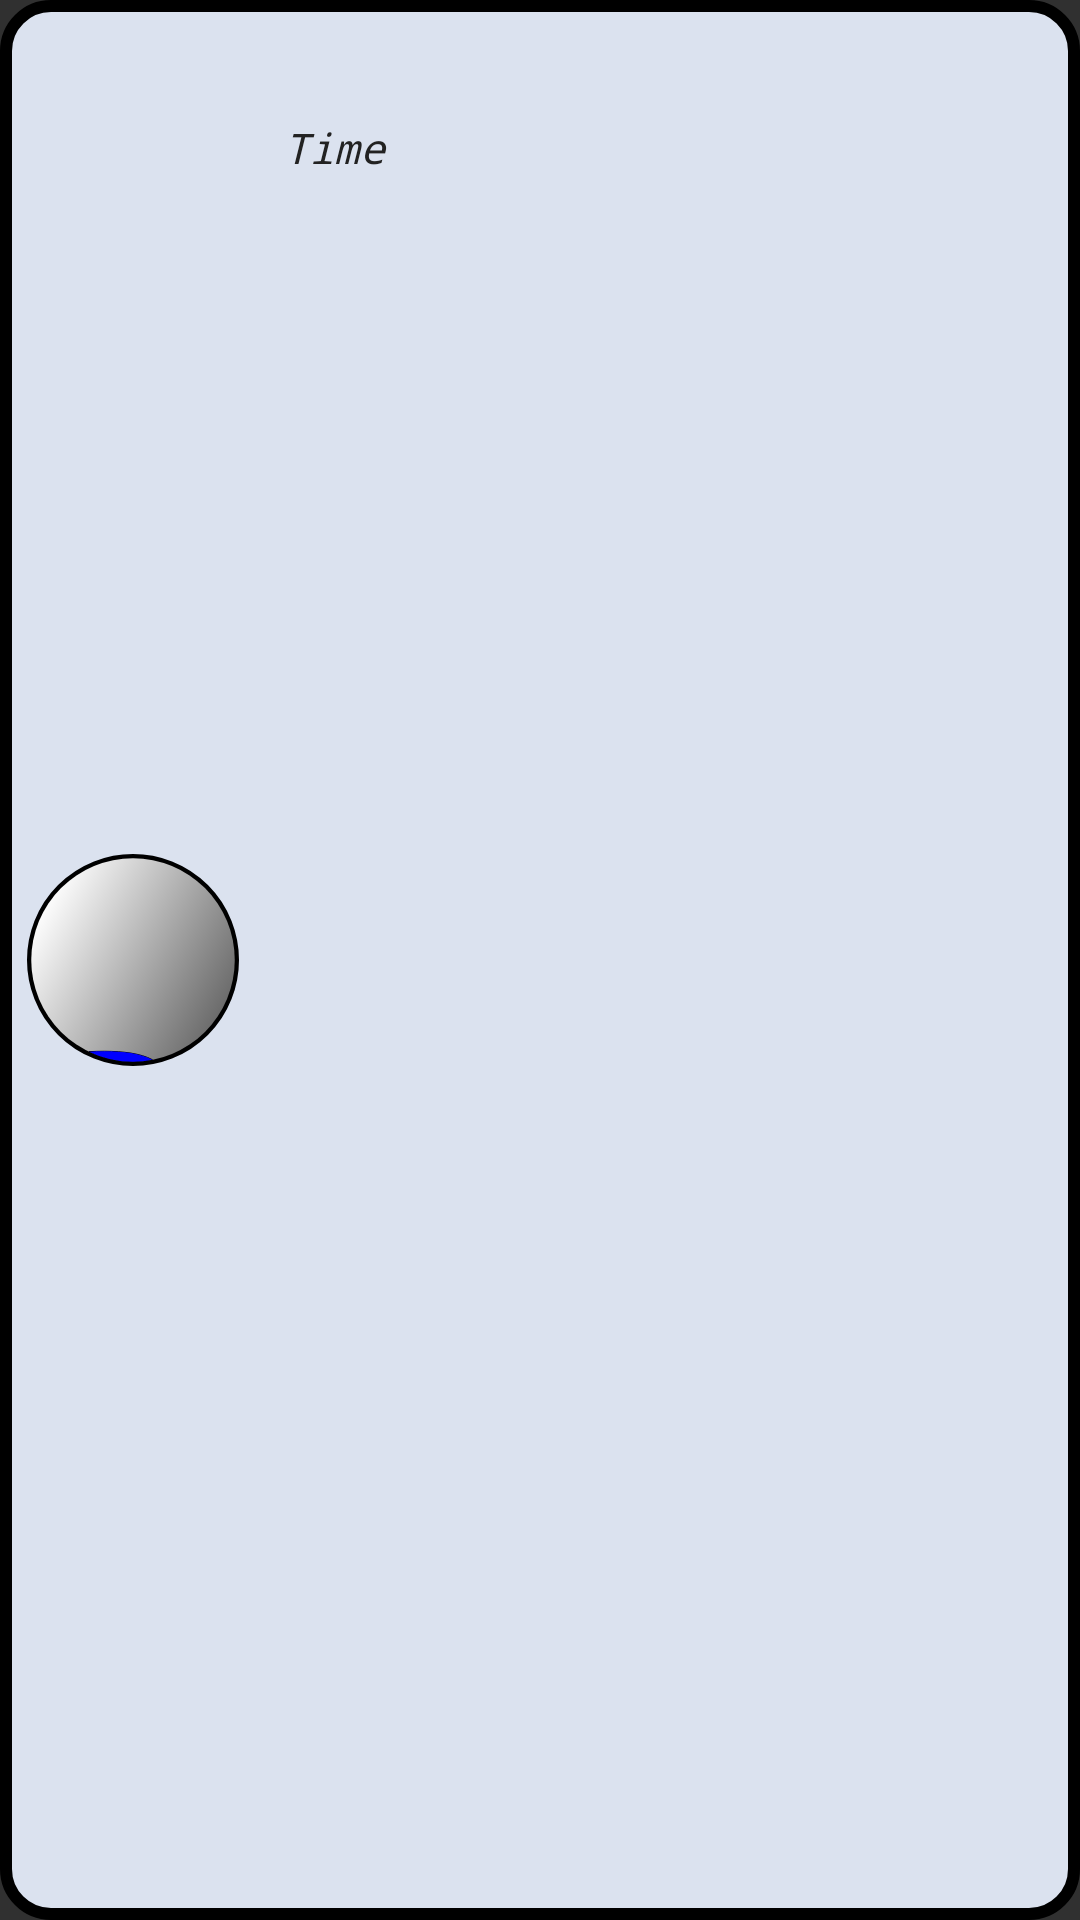

Icons on this 1080 x 1920 Android screen, each with its box as (x1, y1, x2, y2):
An image that shows fulfill percent of the date: (27, 854, 239, 1066)
